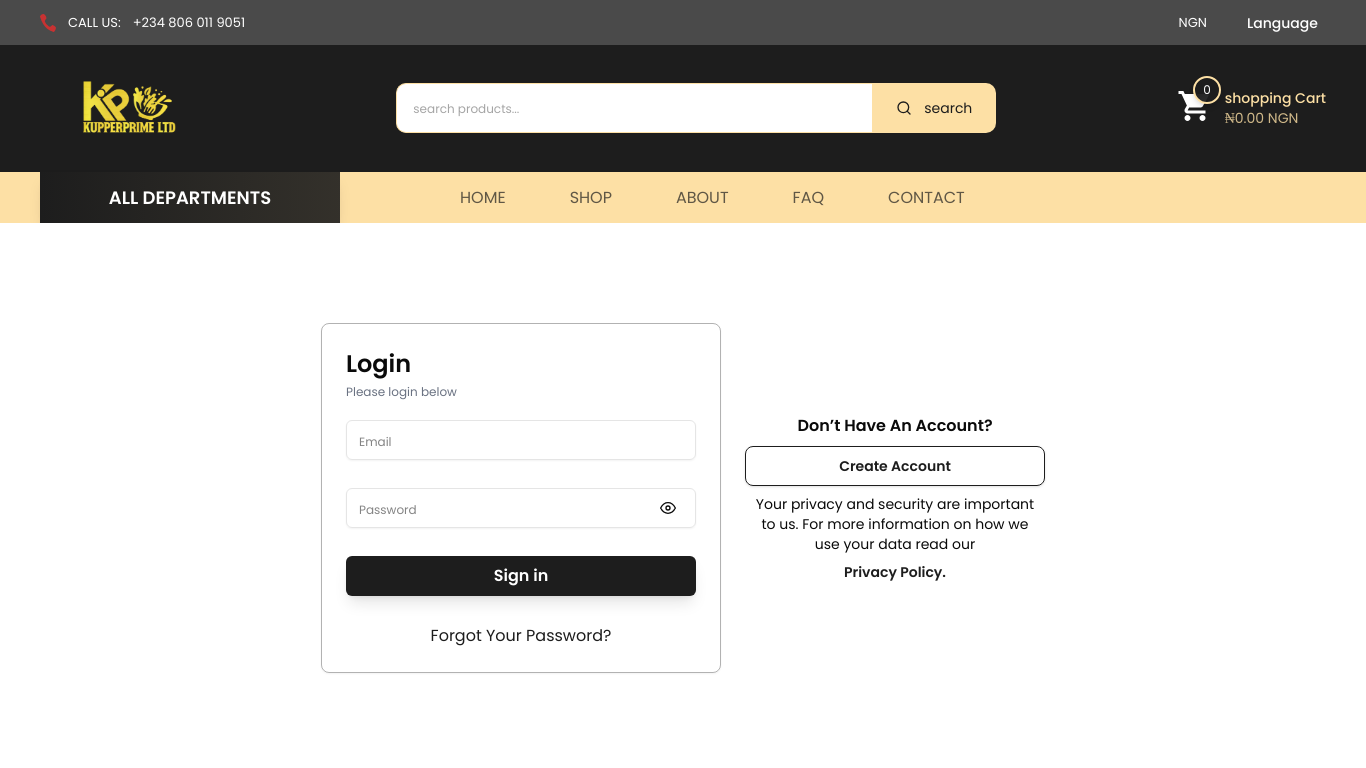
Login Page › shows validation errors
Click the button "Sign in" at [521, 576], box [346, 556, 696, 596]
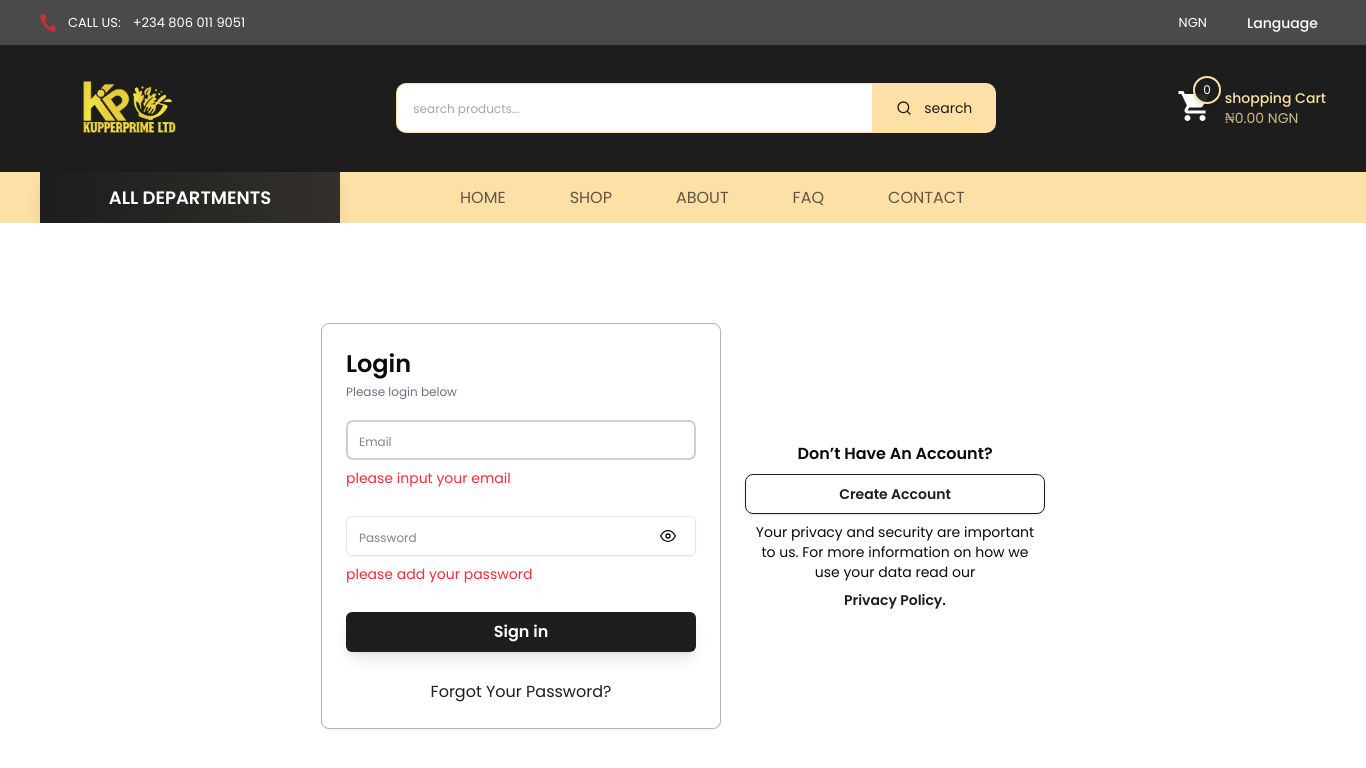
Result: the text "please input your email" is shown at [346, 468, 511, 488]
Result: the text "please add your password" is shown at [346, 564, 532, 584]
